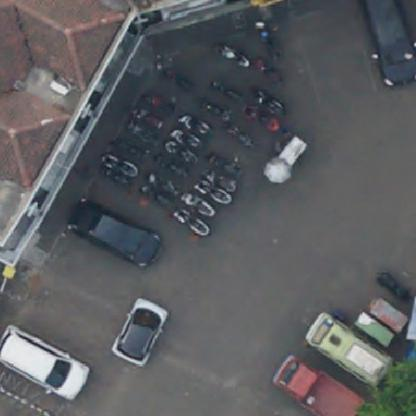Car: (63, 196, 165, 272), (306, 311, 394, 393), (0, 325, 92, 401), (272, 351, 367, 415), (358, 0, 416, 95), (113, 297, 166, 366)
Motorcycle: (255, 22, 289, 60), (156, 63, 192, 95), (157, 150, 190, 182), (226, 120, 258, 152), (176, 209, 211, 238), (216, 43, 256, 68), (166, 136, 204, 162), (252, 86, 286, 114), (246, 106, 280, 134), (200, 178, 234, 206), (140, 90, 176, 115), (255, 57, 286, 86), (210, 150, 244, 176), (139, 183, 172, 209), (102, 153, 138, 176), (200, 98, 234, 122), (132, 105, 166, 129), (128, 118, 157, 146), (181, 190, 214, 214), (98, 166, 132, 189), (146, 172, 180, 195), (180, 112, 212, 136), (204, 172, 242, 192), (210, 82, 246, 102), (172, 126, 204, 147)
